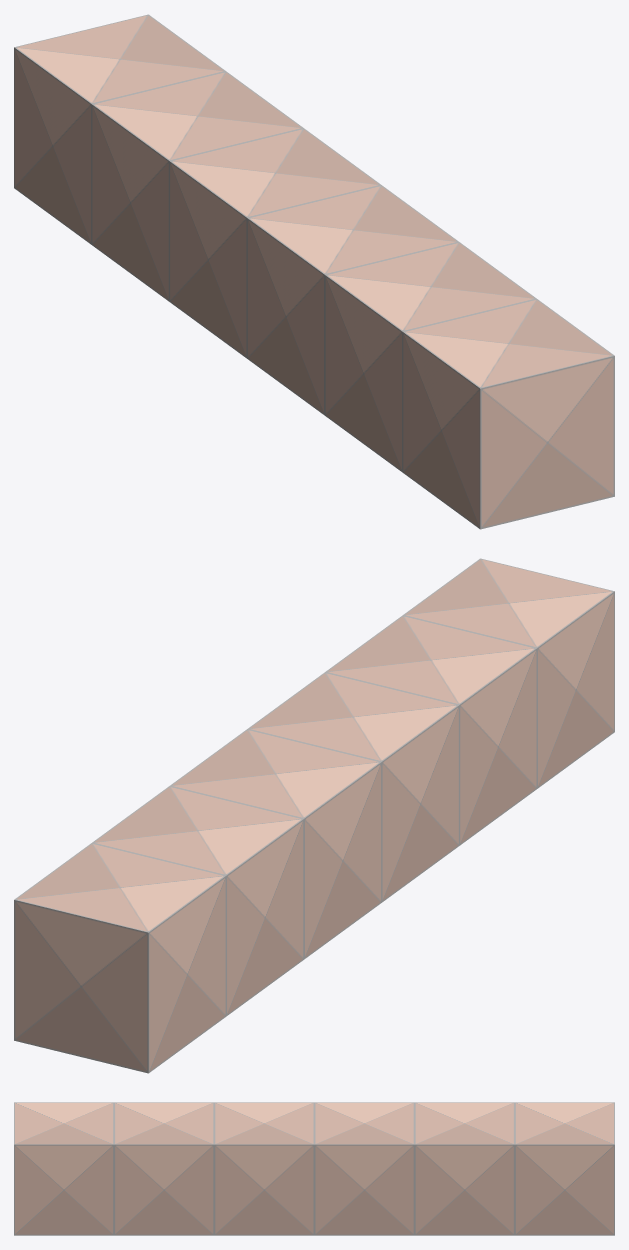
Rendered from StageObject2.gltf.
The picture shows the model from 3 angles, top to bottom: view 1: azimuth 30°, elevation 25°; view 2: azimuth 150°, elevation 25°; view 3: azimuth 270°, elevation 25°; orthographic projection. The views are drawn at different scales.
Visible parts, largest first — view 1: Cube.005, Cube.002, Cube, Cube.004, Cube.001, Cube.003; view 2: Cube.003, Cube.004, Cube.001, Cube.002, Cube, Cube.005; view 3: Cube, Cube.001, Cube.002, Cube.003, Cube.004, Cube.005.
Boxes of the visible parts, x1,y1,x2,y2 form: Cube.005: (402,299,614,529); Cube.002: (91,71,303,301); Cube: (169,128,381,358); Cube.004: (325,242,536,472); Cube.001: (247,185,458,415); Cube.003: (14,14,225,244); Cube.003: (14,843,226,1073); Cube.004: (325,615,537,845); Cube.001: (247,672,459,902); Cube.002: (92,786,303,1016); Cube: (170,729,381,959); Cube.005: (403,558,614,788); Cube: (314,1102,414,1235); Cube.001: (214,1102,314,1235); Cube.002: (414,1102,514,1235); Cube.003: (514,1102,614,1235); Cube.004: (114,1102,214,1235); Cube.005: (14,1102,113,1235).
Size of the model in its own units: 1 by 1 by 6.
Materials: 1 (1 with a texture image).
